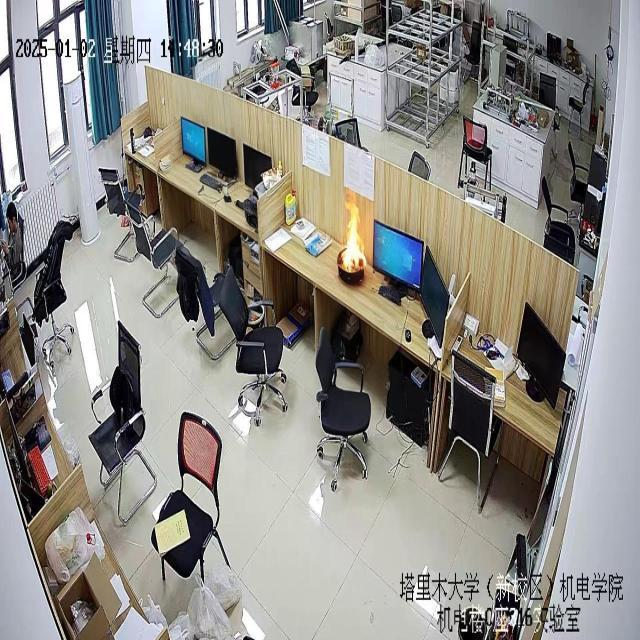smoke: (338, 192, 368, 278)
